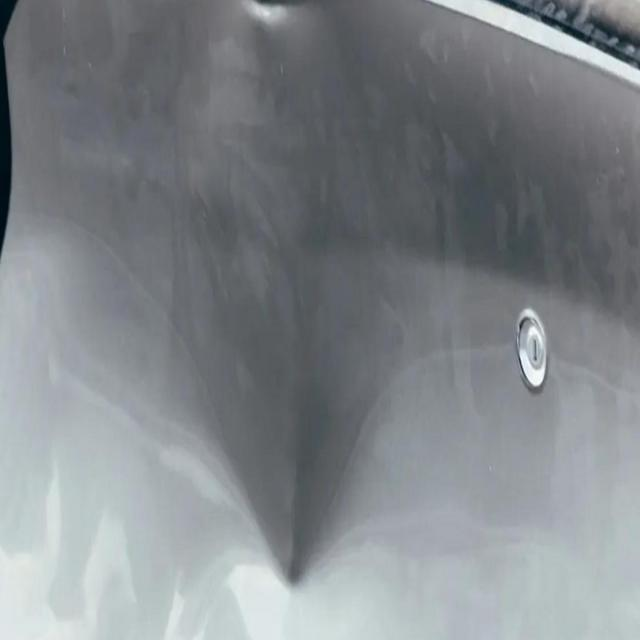dent: (164, 138, 398, 608)
